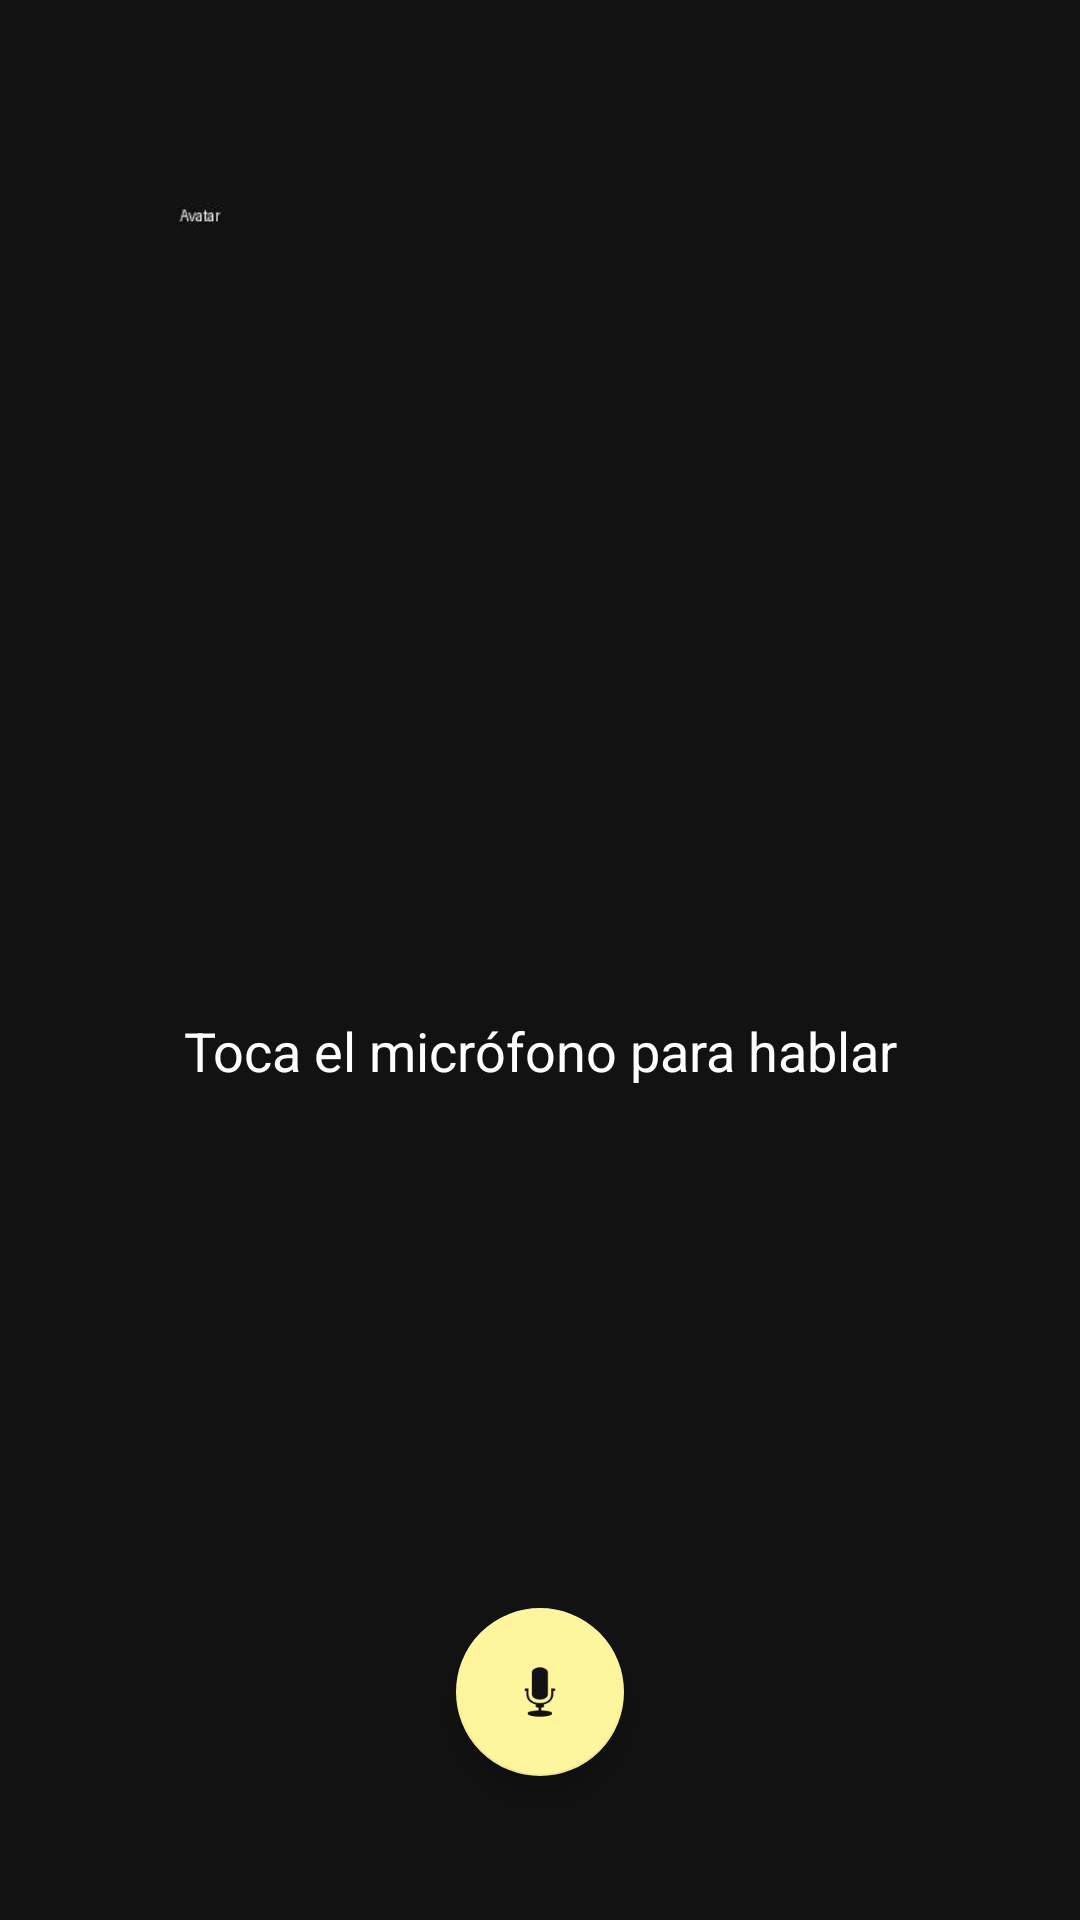

Screen size 1080x1920. Icon name, then its center in pixels as (x,y):
speak now: (540,1692)
